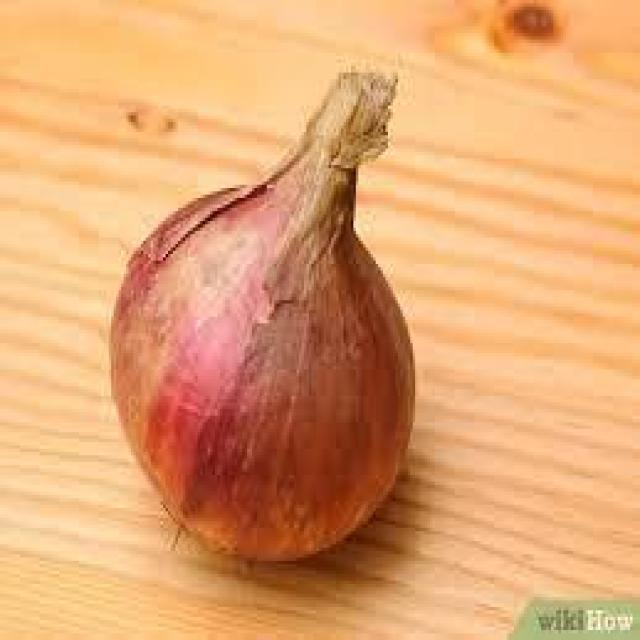Onion: (106, 66, 420, 564)
